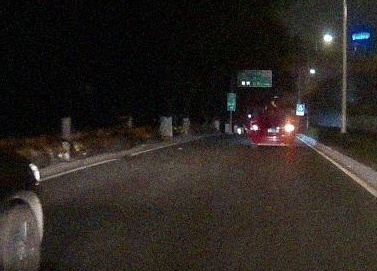L_light: (251, 124, 260, 130)
R_light: (284, 125, 294, 131)
T_light: (270, 114, 276, 115)
night-right: (251, 111, 295, 150)
